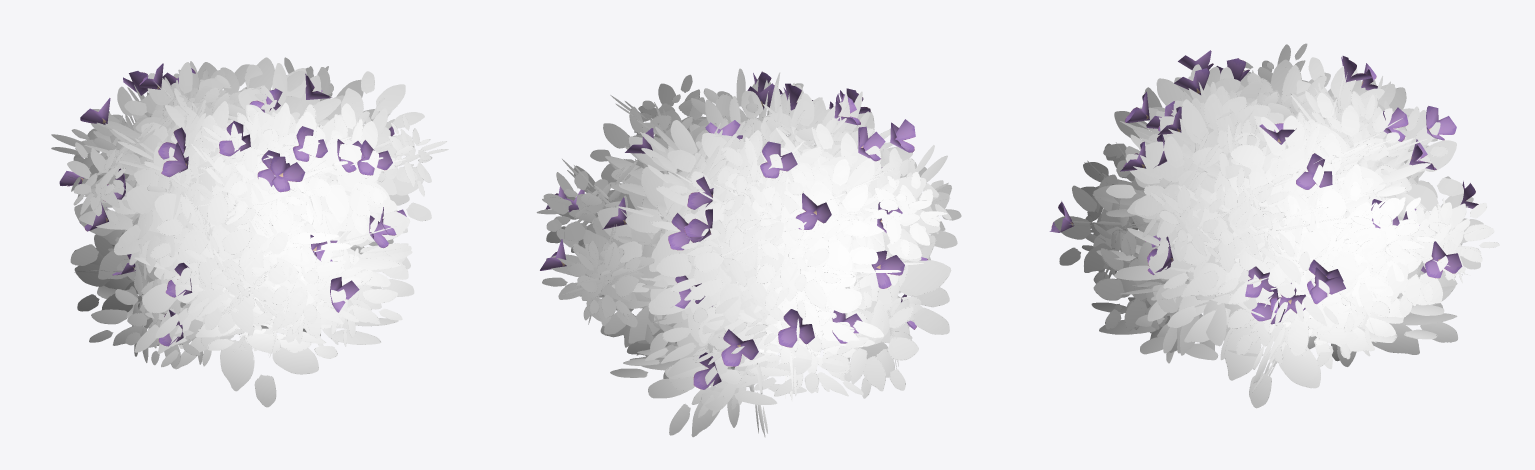
The model's file is Bush_Common_Flowers.gltf.
3 renders of one model, left to right at view 1: azimuth 30°, elevation 25°; view 2: azimuth 150°, elevation 25°; view 3: azimuth 270°, elevation 25°, orthographic. The views are drawn at different scales.
Visible parts, largest first — view 1: Bush_Common_Flowers; view 2: Bush_Common_Flowers; view 3: Bush_Common_Flowers.
Boxes of the visible parts, box(x1,y1,x2,y2) form: Bush_Common_Flowers: box(51, 57, 448, 407); Bush_Common_Flowers: box(536, 68, 961, 437); Bush_Common_Flowers: box(1049, 43, 1499, 408).
Size of the model in its own units: 2.02 by 1.82 by 2.19.
2 materials, 2 textured.
